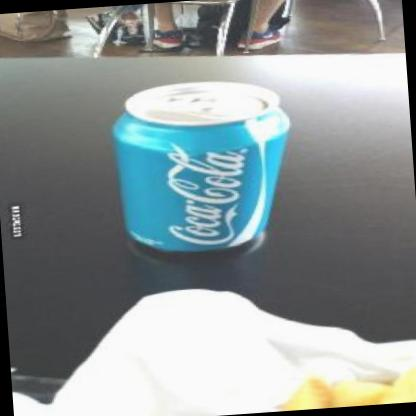alumunium_can: (108, 75, 299, 260)
